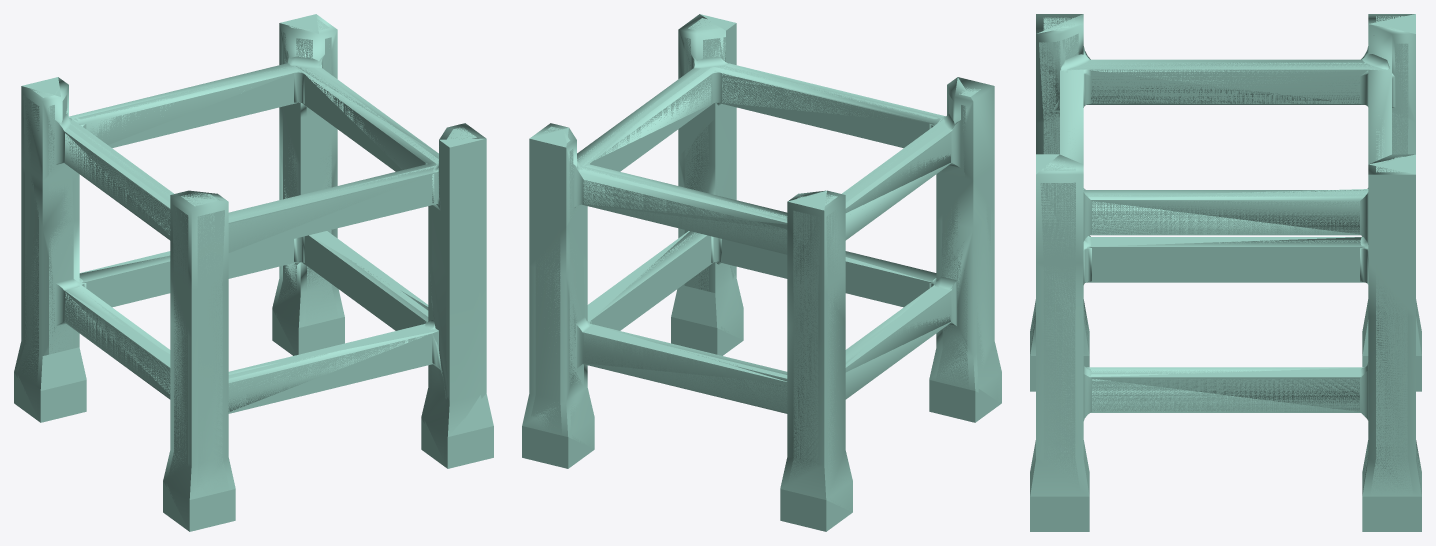
Rendered from space-kit__supports_high.glb.
The picture shows the model from 3 angles, left to right: view 1: azimuth 30°, elevation 25°; view 2: azimuth 150°, elevation 25°; view 3: azimuth 270°, elevation 25°; orthographic projection. The views are drawn at different scales.
Visible parts, largest first — view 1: L0_accent, L1_accent; view 2: L1_accent, L0_accent; view 3: L0_accent, L1_accent.
Part boxes in pixels (x1=…): L0_accent: x1=17, y1=18, x2=487, y2=525; L1_accent: x1=14, y1=14, x2=493, y2=531; L1_accent: x1=522, y1=14, x2=1001, y2=531; L0_accent: x1=528, y1=18, x2=998, y2=525; L0_accent: x1=1030, y1=16, x2=1421, y2=524; L1_accent: x1=1030, y1=14, x2=1421, y2=531.
Size of the model in its own units: 1 by 1 by 1.
